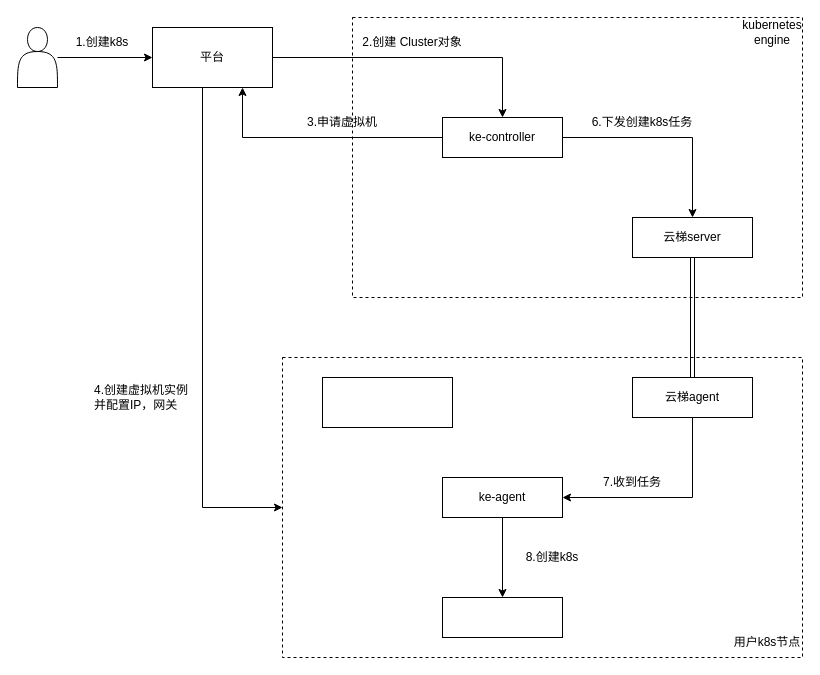
This 820x675 diagram has some shape labels left out. The box of each missing label's shape, as (x1, y1, x2, y2) in pixels:
5.执行初始化脚本，拉起云梯agent建立连接。: (322, 376, 452, 428)
k8s集群: (442, 596, 562, 638)
